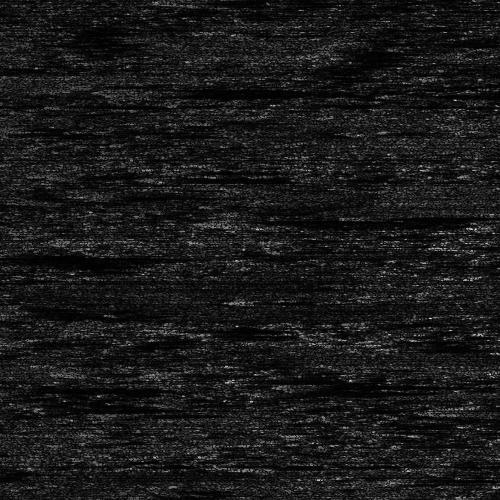object: (180, 216, 285, 229), (120, 85, 225, 98), (403, 404, 496, 415), (126, 367, 209, 376), (0, 382, 42, 391), (342, 213, 405, 218), (120, 173, 161, 180), (92, 410, 145, 415), (265, 383, 318, 388), (158, 0, 231, 3), (374, 91, 437, 94), (482, 421, 500, 424)
shadow: (173, 85, 368, 98), (232, 216, 409, 229), (0, 251, 130, 266), (11, 382, 142, 391), (167, 367, 257, 376), (292, 383, 451, 388), (141, 173, 249, 180), (449, 404, 500, 415), (374, 213, 470, 218), (119, 410, 203, 415), (406, 91, 500, 94), (195, 0, 252, 3)
